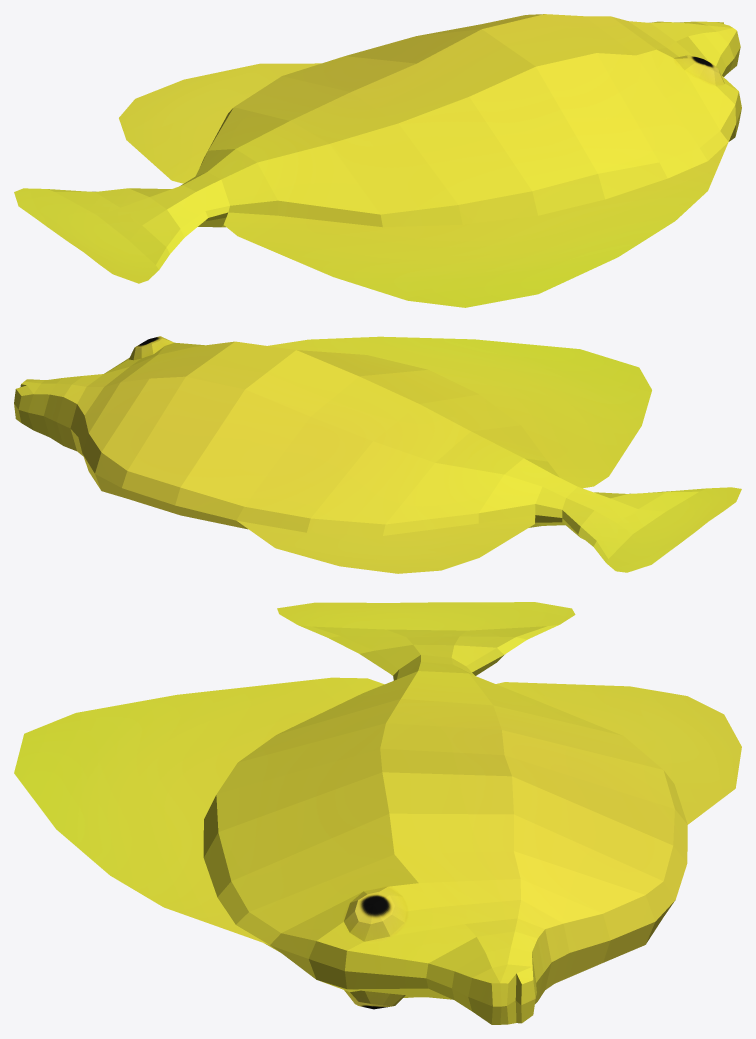
File: tang.glb
The picture shows the model from 3 angles, top to bottom: view 1: azimuth 30°, elevation 25°; view 2: azimuth 150°, elevation 25°; view 3: azimuth 270°, elevation 25°; orthographic projection. The views are drawn at different scales.
Visible parts, largest first — view 1: Plane.013; view 2: Plane.013; view 3: Plane.013.
Boxes of the visible parts, x1,y1,x2,y2 form: Plane.013: (14,14,741,307); Plane.013: (14,336,741,573); Plane.013: (14,602,741,1024).
Bounding box in the file's own units: 1.03 × 0.212 × 0.7819.
1 material, 1 textured.
